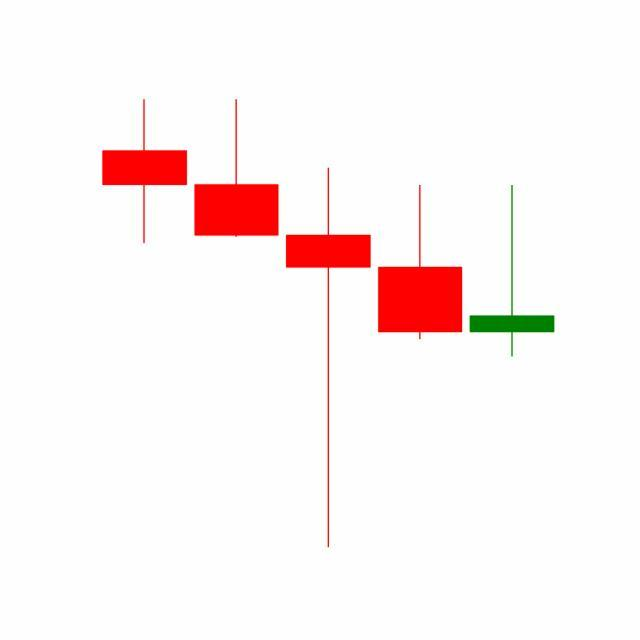Spinning Top: (466, 184, 559, 360)
